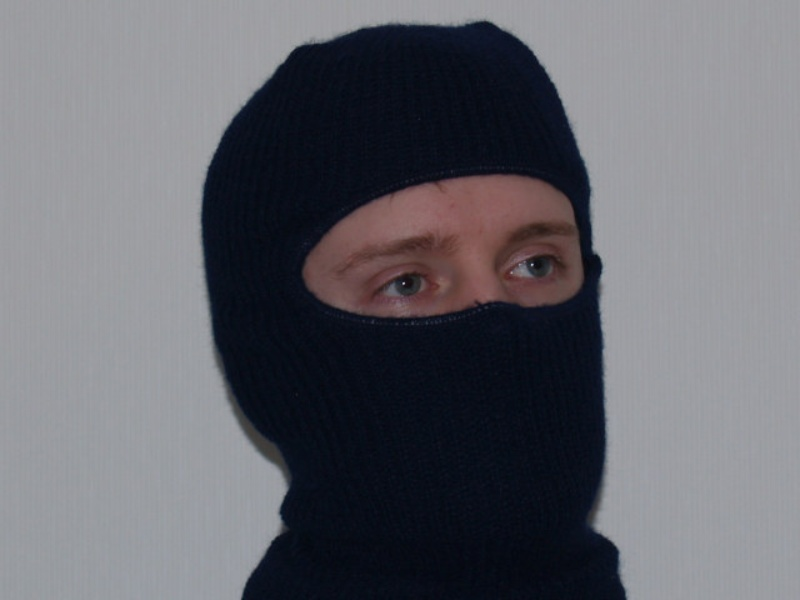balaclava: (203, 25, 605, 511)
person: (197, 20, 631, 600)
